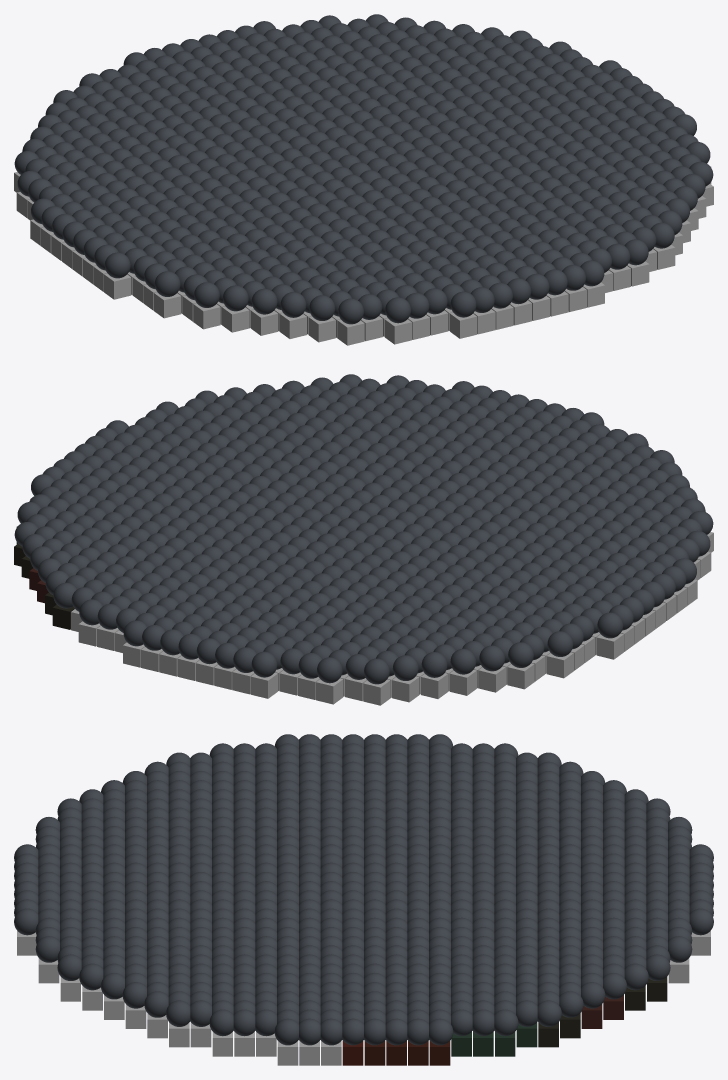
File: LevelCreator (1).fbx
3 views of the same model, one above another, from view 1: azimuth 30°, elevation 25°; view 2: azimuth 150°, elevation 25°; view 3: azimuth 270°, elevation 25° (orthographic). The views are drawn at different scales.
Visible parts, largest first — view 1: Pixel_Clone__533, Pixel_Clone__729, Pixel_Clone__811, Pixel_Clone__679, Pixel_Clone__705, Pixel_Clone__751, Pixel_Clone__771, Pixel_Clone__789, Pixel_Clone__623, Pixel_Clone__803, Sphere_729, Sphere_751 (+8 smaller); view 2: Pixel_Clone__309, Pixel_Clone__105, Pixel_Clone__7, Pixel_Clone__39, Pixel_Clone__59, Pixel_Clone__81, Pixel_Clone__131, Pixel_Clone__159, Pixel_Clone__21, Pixel_Clone__217, Sphere_81, Sphere_105 (+8 smaller); view 3: Sphere_132, Sphere_652, Sphere_188, Sphere_278, Sphere_502, Sphere_594, Sphere_22, Sphere_772, Sphere_40, Sphere_752, Sphere, Sphere_106 (+16 smaller).
Boxes of the visible parts, <box> form: Pixel_Clone__533: <box>104,273,131,299</box>; Pixel_Clone__729: <box>251,309,278,335</box>; Pixel_Clone__811: <box>450,312,477,338</box>; Pixel_Clone__679: <box>193,303,220,329</box>; Pixel_Clone__705: <box>222,306,249,332</box>; Pixel_Clone__751: <box>279,313,306,338</box>; Pixel_Clone__771: <box>308,316,335,342</box>; Pixel_Clone__789: <box>337,319,364,345</box>; Pixel_Clone__623: <box>154,292,181,318</box>; Pixel_Clone__803: <box>384,318,411,344</box>; Sphere_729: <box>251,288,277,314</box>; Sphere_751: <box>280,292,306,317</box>; Pixel_Clone__309: <box>596,633,623,659</box>; Pixel_Clone__105: <box>449,669,476,695</box>; Pixel_Clone__7: <box>250,672,277,698</box>; Pixel_Clone__39: <box>363,679,390,705</box>; Pixel_Clone__59: <box>392,676,419,702</box>; Pixel_Clone__81: <box>421,673,448,698</box>; Pixel_Clone__131: <box>478,666,505,692</box>; Pixel_Clone__159: <box>507,663,534,689</box>; Pixel_Clone__21: <box>316,678,343,704</box>; Pixel_Clone__217: <box>546,652,573,678</box>; Sphere_81: <box>421,652,447,677</box>; Sphere_105: <box>450,648,476,674</box>; Sphere_132: <box>537,1000,561,1026</box>; Sphere_652: <box>166,1000,190,1026</box>; Sphere_188: <box>494,1009,518,1036</box>; Sphere_278: <box>429,1018,453,1045</box>; Sphere_502: <box>274,1018,298,1045</box>; Sphere_594: <box>209,1009,233,1036</box>; Sphere_22: <box>646,954,670,980</box>; Sphere_772: <box>57,954,81,980</box>; Sphere_40: <box>624,963,648,990</box>; Sphere_752: <box>79,963,103,990</box>; Sphere: <box>689,908,713,935</box>; Sphere_106: <box>559,991,583,1017</box>.
Size of the model in its own units: 3223 by 211 by 3223.
